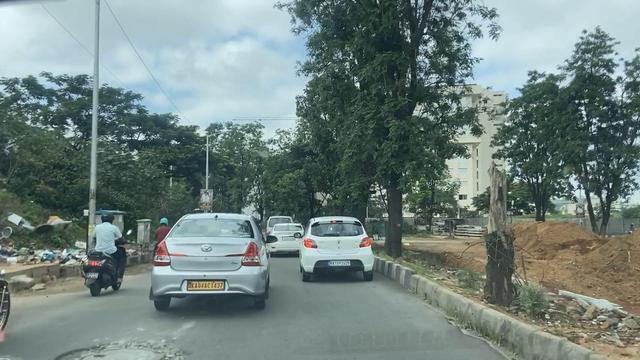LMV: (161, 209, 259, 309), (306, 224, 370, 279), (91, 209, 121, 293)
RoadDamages: (54, 344, 185, 360)
